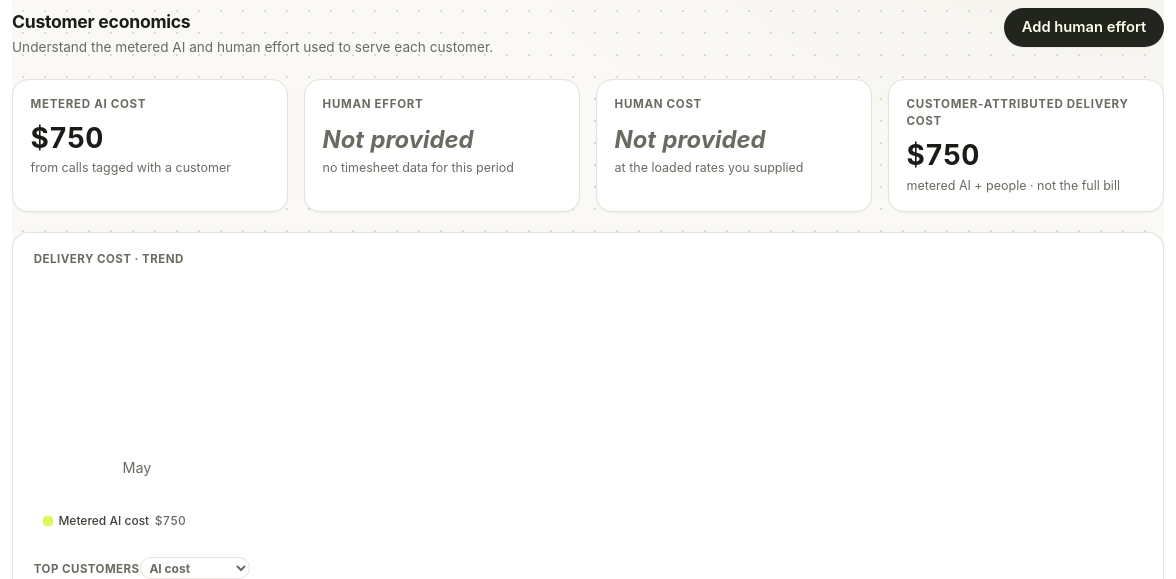
Test: importing effort › explains the columns and offers an example
Check: the heading "Customer economics" is shown, box [12,11,190,32]
Click the button "Add human effort" at [1084, 27], box [1004,8,1164,46]
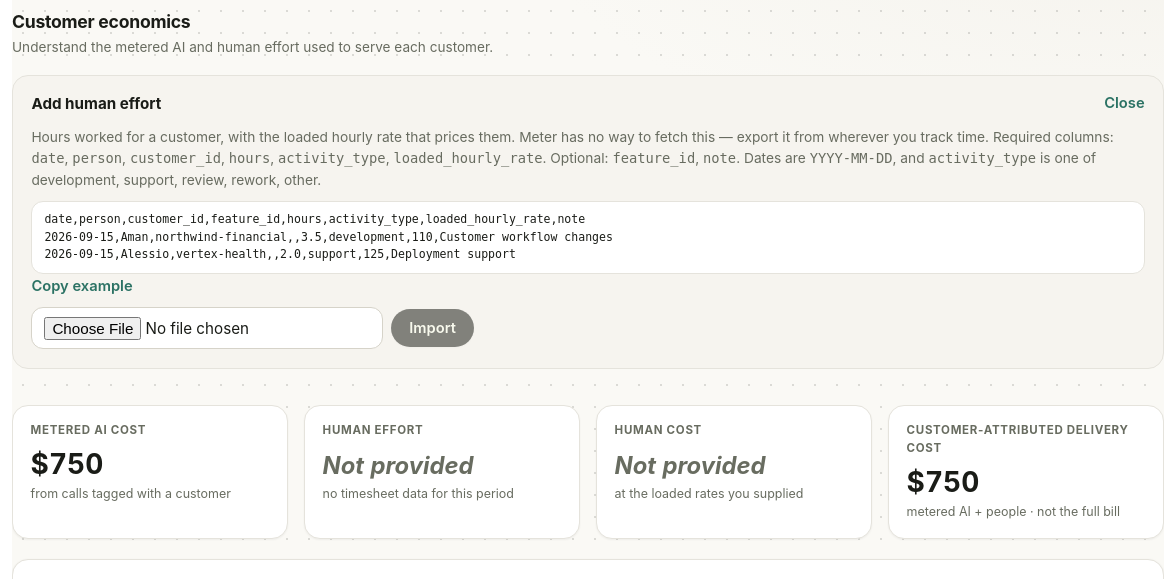
Check: the text "loaded_hourly_rate" is shown, box [394,150,542,166]
Check: the button "Copy example" is shown, box [31,277,133,295]
Check: the button "Import" is disabled, box [391,309,474,347]
